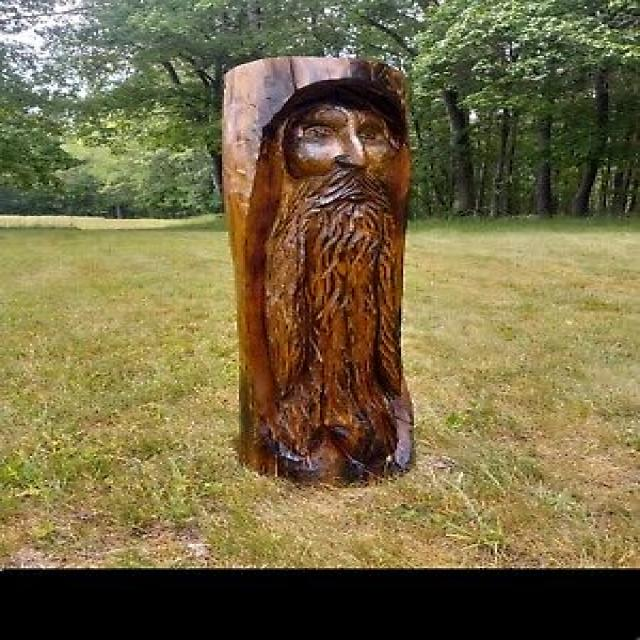Woods: (220, 58, 416, 488)
